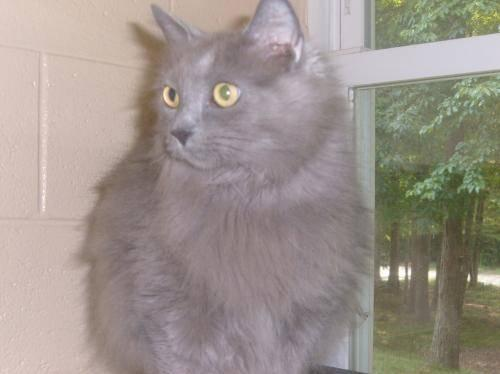cat: (79, 0, 371, 373)
